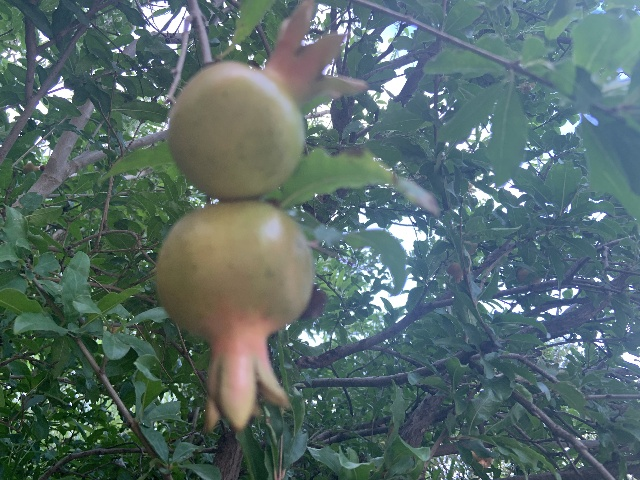mid-growth: (168, 0, 370, 199), (154, 200, 316, 434), (445, 262, 463, 283)
